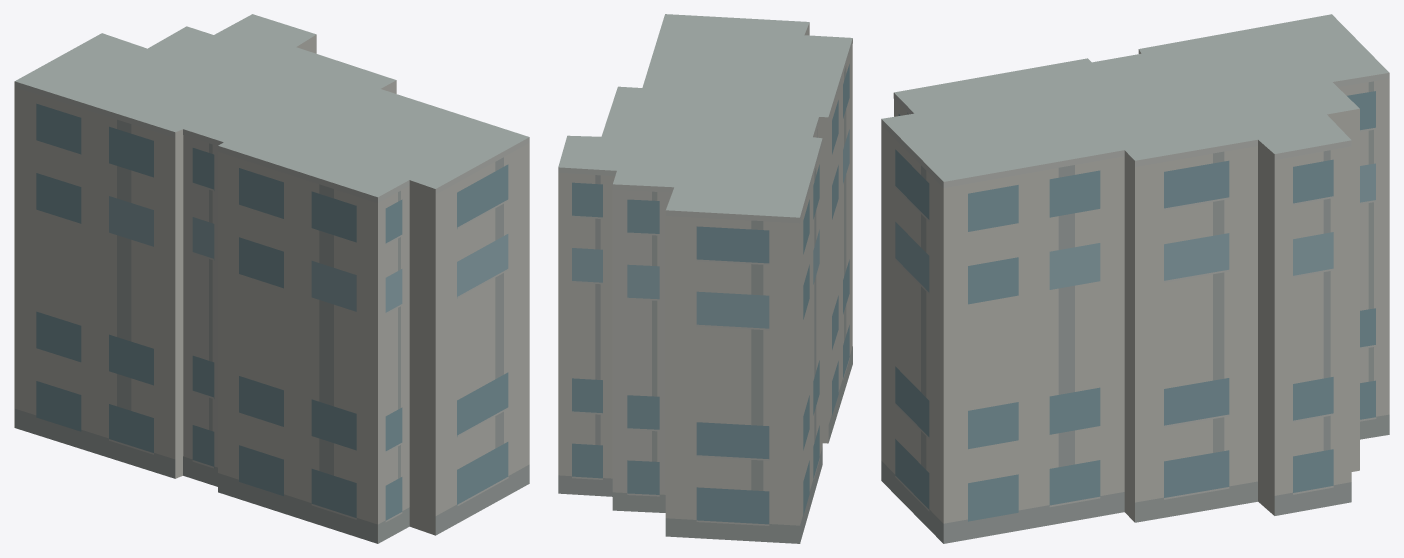
File: survey-upis-32614779.glb
The picture shows the model from 3 angles, left to right: view 1: azimuth 30°, elevation 25°; view 2: azimuth 150°, elevation 25°; view 3: azimuth 270°, elevation 25°; orthographic projection. The views are drawn at different scales.
Parts seen in each view (by area): view 1: survey-upis-32614779.tmp; view 2: survey-upis-32614779.tmp; view 3: survey-upis-32614779.tmp.
Part boxes in pixels (bbox=[...]): survey-upis-32614779.tmp: bbox=[14, 14, 529, 543]; survey-upis-32614779.tmp: bbox=[558, 14, 852, 543]; survey-upis-32614779.tmp: bbox=[881, 14, 1389, 543].
Size of the model in its own units: 14.44 by 14.5 by 18.46.
